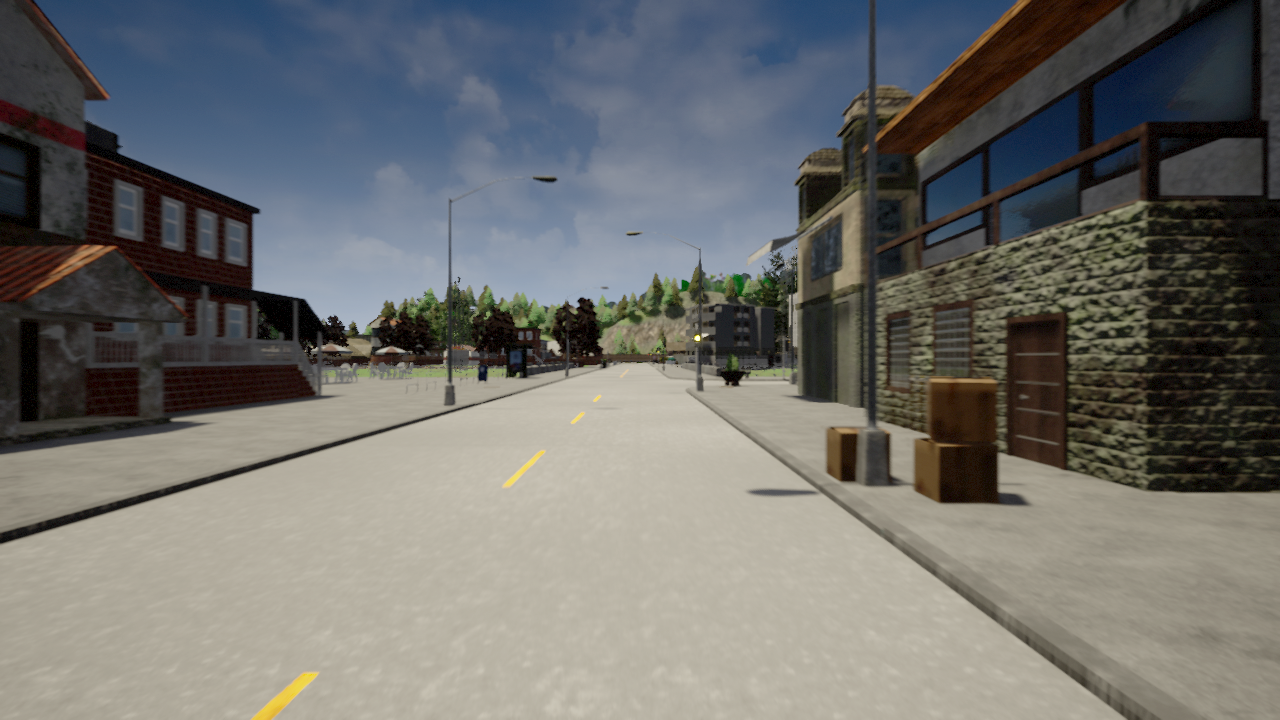yellow: (694, 328, 702, 347)
